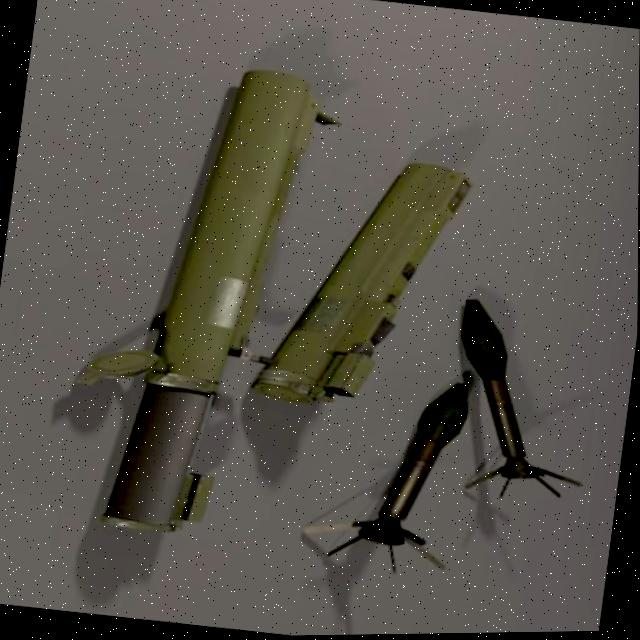rocket: (26, 22, 520, 632)
